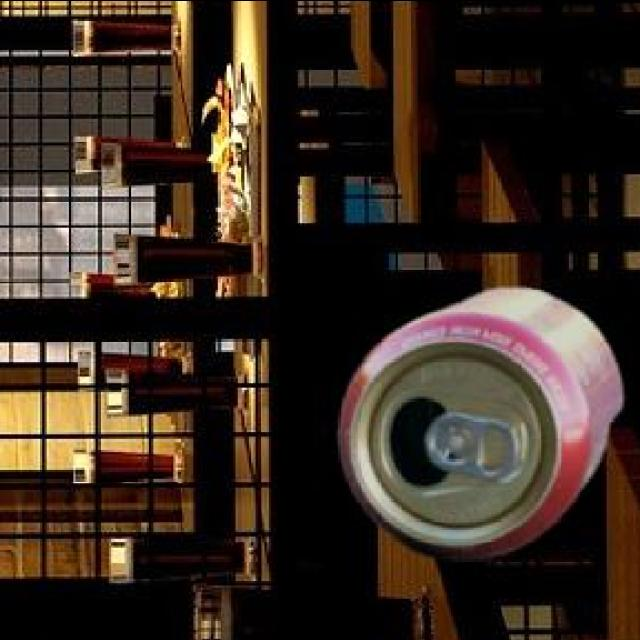logam: (337, 283, 619, 554)
